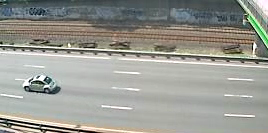car: (19, 73, 59, 96)
